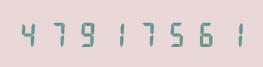five: (157, 20, 184, 47)
four: (17, 20, 44, 47)
nine: (73, 20, 100, 47)
one: (101, 20, 128, 47), (213, 20, 240, 47)
seven: (45, 20, 72, 47), (129, 20, 156, 47)
six: (185, 20, 212, 47)
